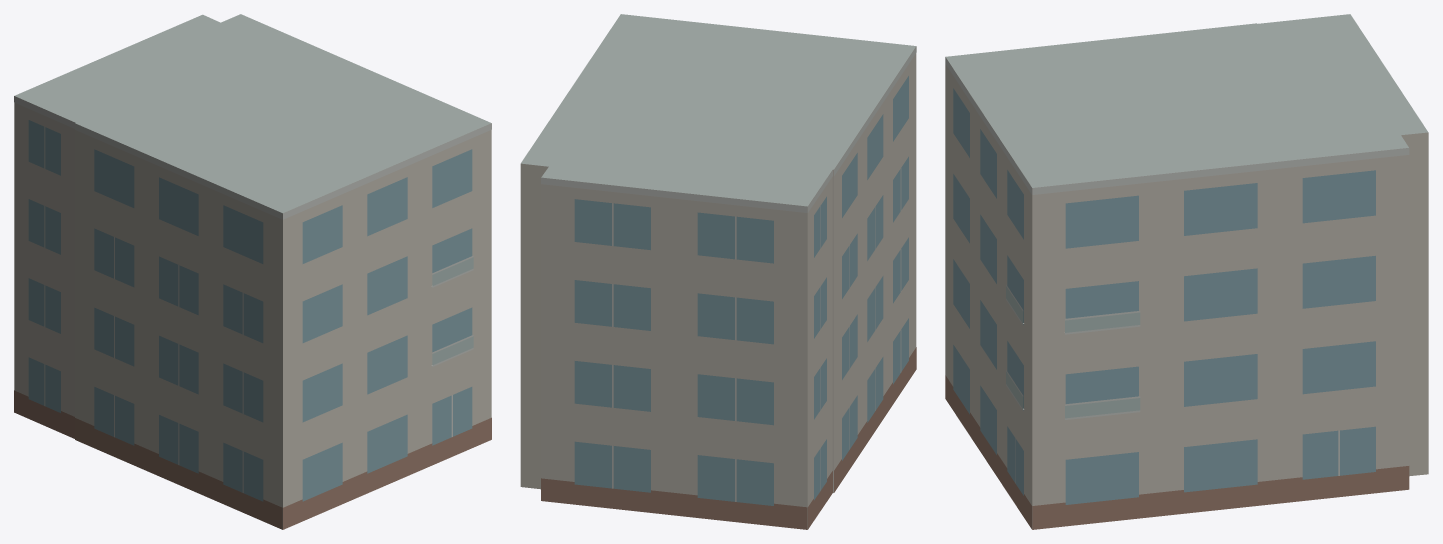
The model's file is survey-upis-33009872.glb.
The picture shows the model from 3 angles, left to right: view 1: azimuth 30°, elevation 25°; view 2: azimuth 150°, elevation 25°; view 3: azimuth 270°, elevation 25°; orthographic projection. The views are drawn at different scales.
Visible parts, largest first — view 1: survey-upis-33009872.tmp; view 2: survey-upis-33009872.tmp; view 3: survey-upis-33009872.tmp.
Boxes of the visible parts, x1,y1,x2,y2 form: survey-upis-33009872.tmp: (14, 14, 491, 529); survey-upis-33009872.tmp: (520, 14, 916, 529); survey-upis-33009872.tmp: (945, 14, 1428, 529).
Size of the model in its own units: 12.89 by 11.8 by 15.13.
